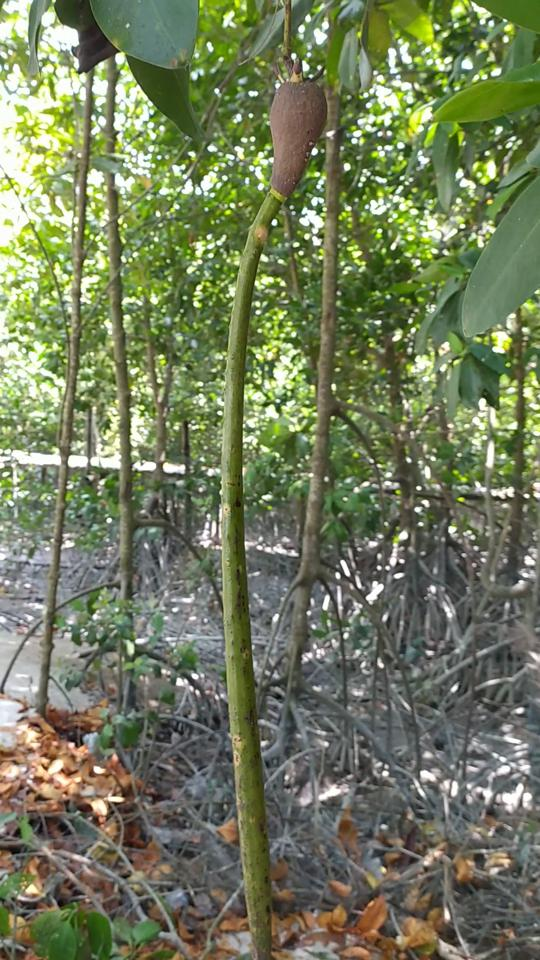setengah matang: (217, 44, 337, 958)
